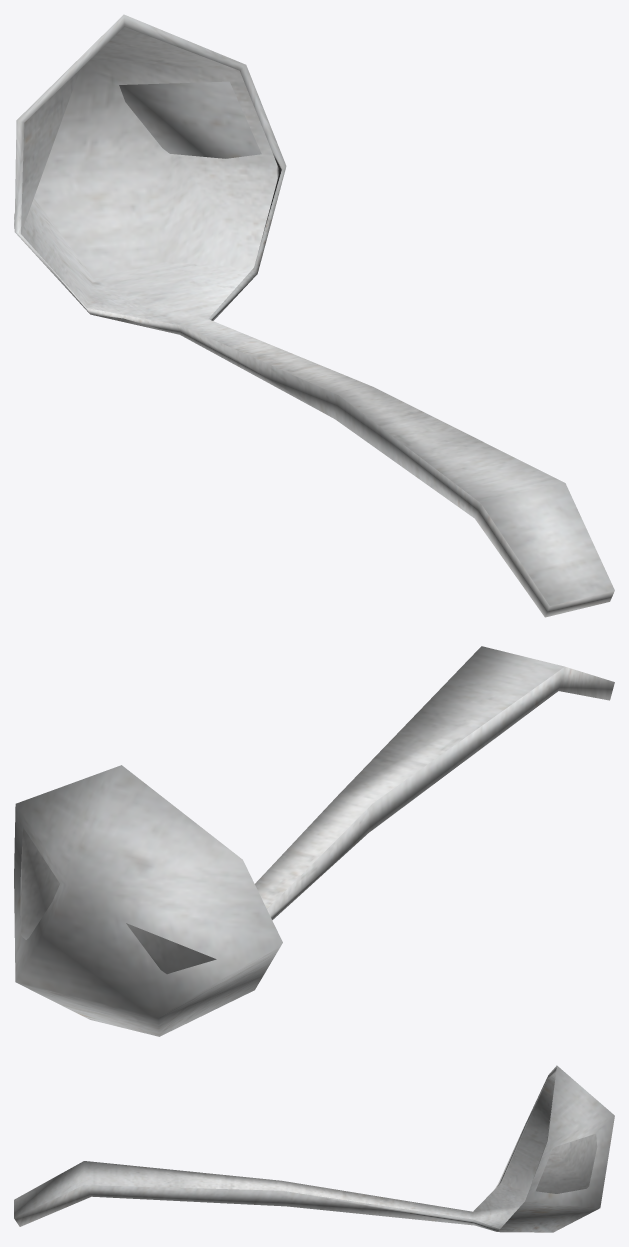
Rendered from M_Home_Garden_Bestek06.fbx.
3 renders of one model, top to bottom at view 1: azimuth 30°, elevation 25°; view 2: azimuth 150°, elevation 25°; view 3: azimuth 270°, elevation 25°, orthographic. The views are drawn at different scales.
Visible parts, largest first — view 1: M_Home_Garden_Bestek06; view 2: M_Home_Garden_Bestek06; view 3: M_Home_Garden_Bestek06.
Boxes of the visible parts, box(x1,y1,x2,y2) form: M_Home_Garden_Bestek06: box(14, 14, 614, 617); M_Home_Garden_Bestek06: box(14, 646, 614, 1036); M_Home_Garden_Bestek06: box(14, 1065, 614, 1232).
Bounding box in the file's own units: 19.79 × 18.63 × 64.52.
